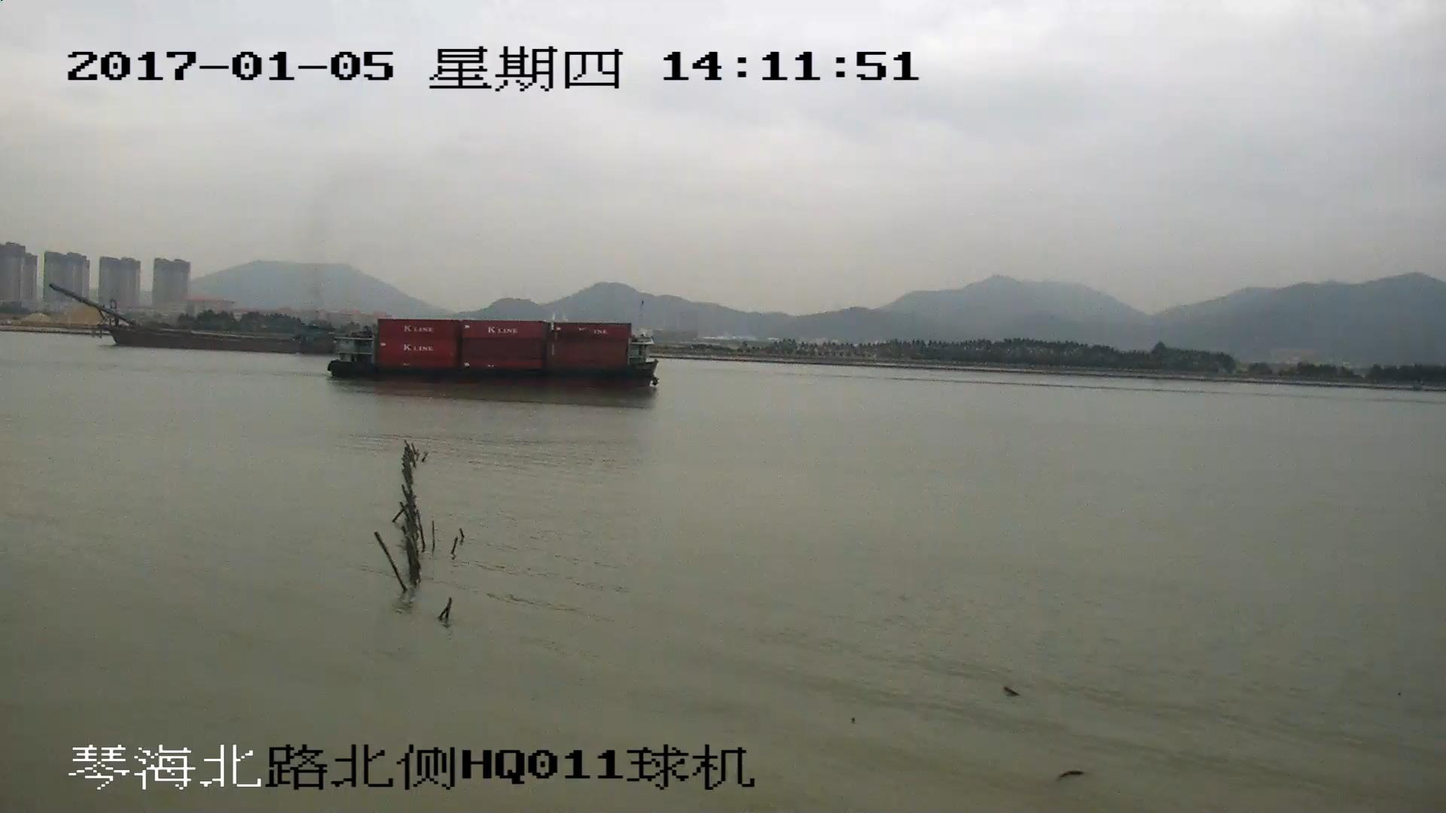bulk cargo carrier: (53, 285, 328, 352)
container ship: (329, 320, 658, 391)
